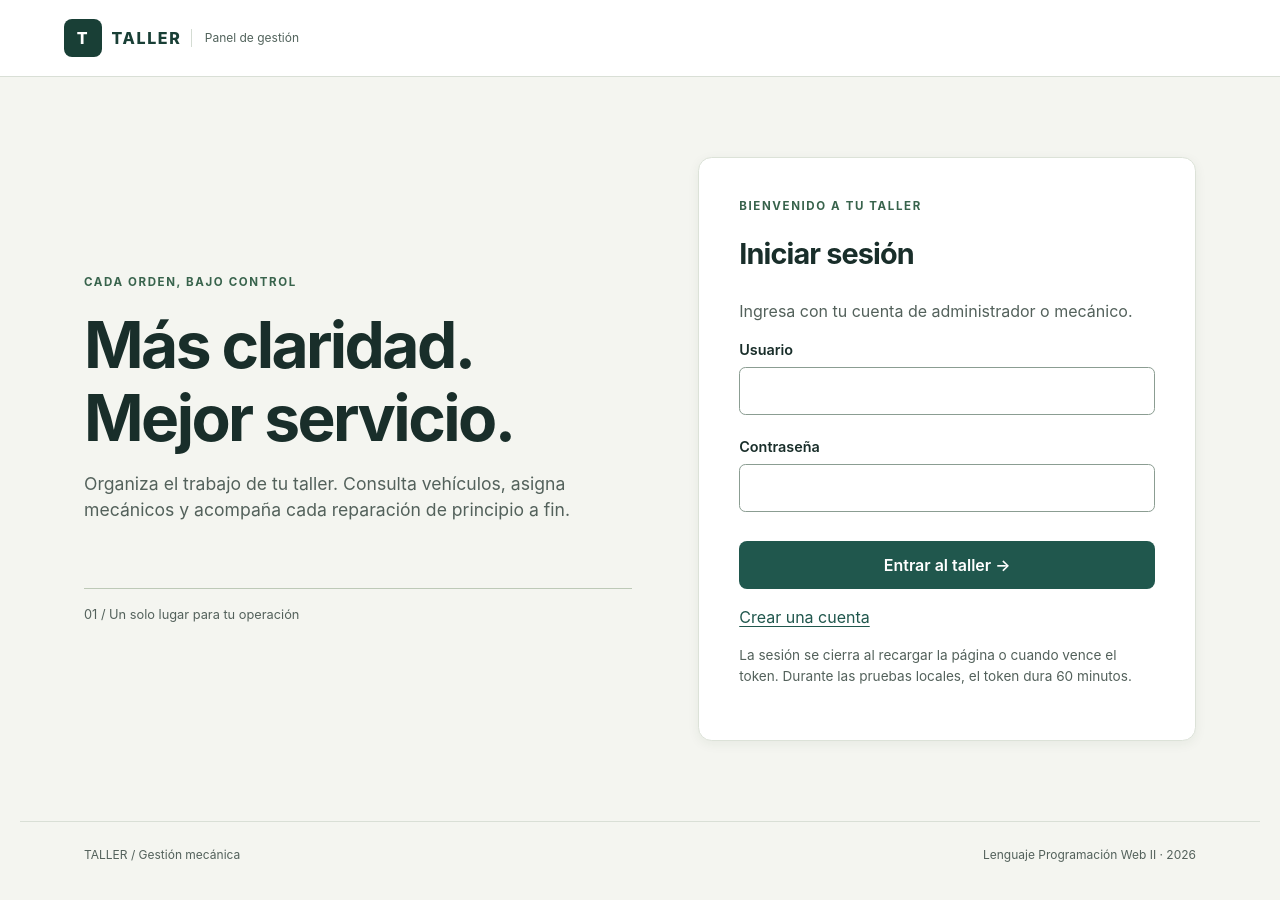
Autenticación y órdenes › inicia sesión y adjunta Bearer al cargar las órdenes
The image size is (1280, 900).
Type "ana" into the field labelled "Usuario" at (947, 391), box [739,367,1155,415]
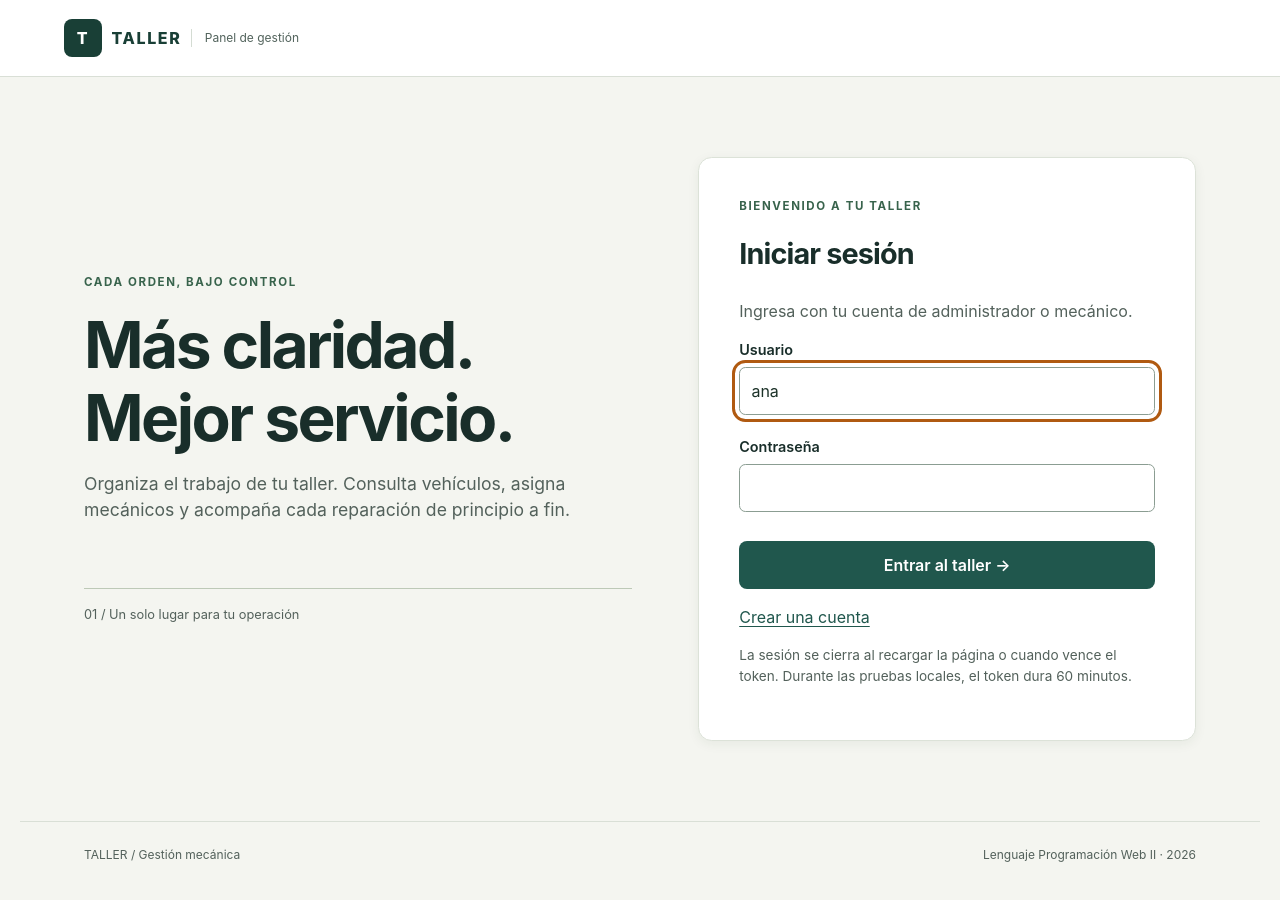
Type "secreto" into the password field labelled "Contraseña" at (947, 488), box [739,464,1155,512]
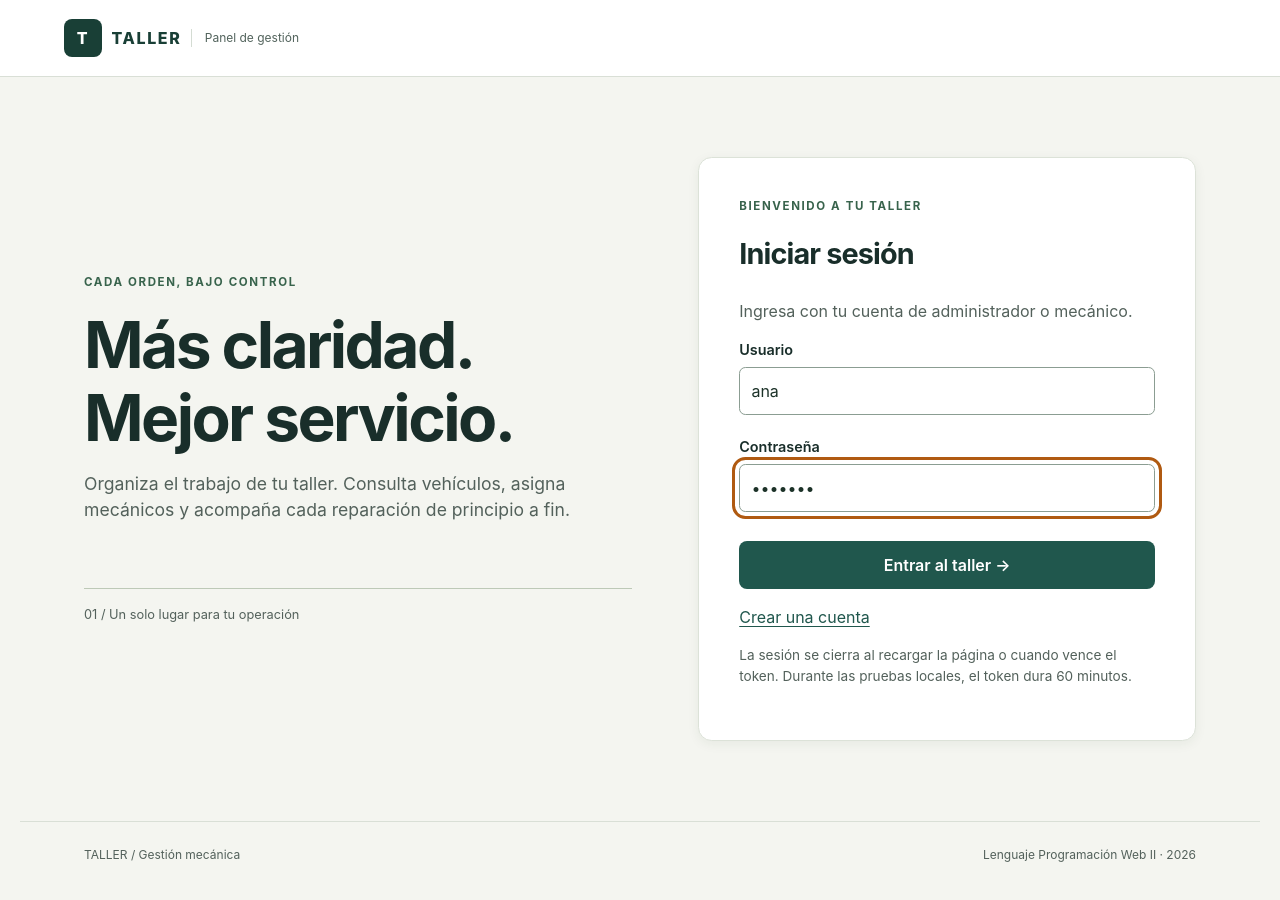
Click the button "Entrar al taller →" at (947, 565), box [739,541,1155,590]
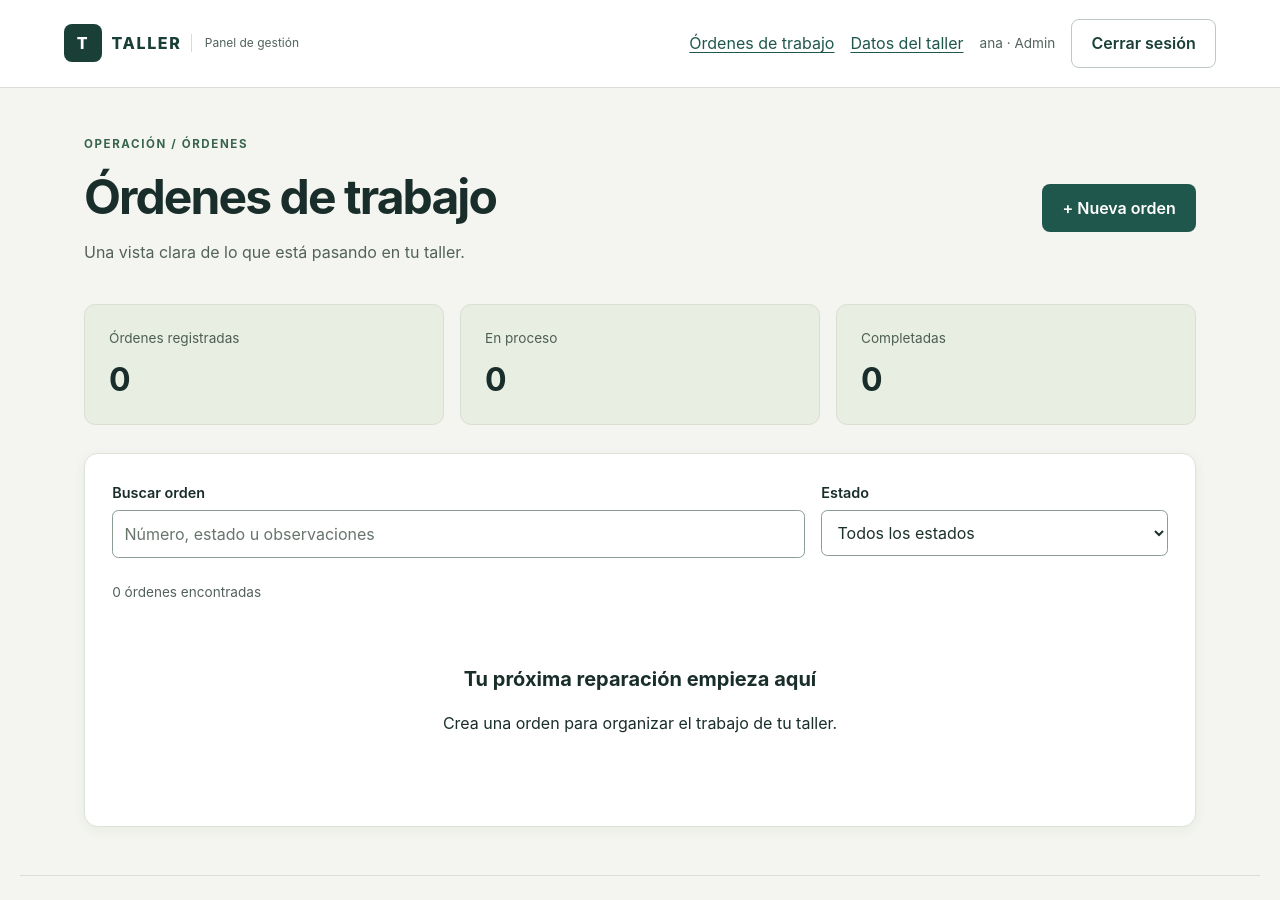
Check: the heading "Órdenes de trabajo" is shown, box [84,169,496,224]
